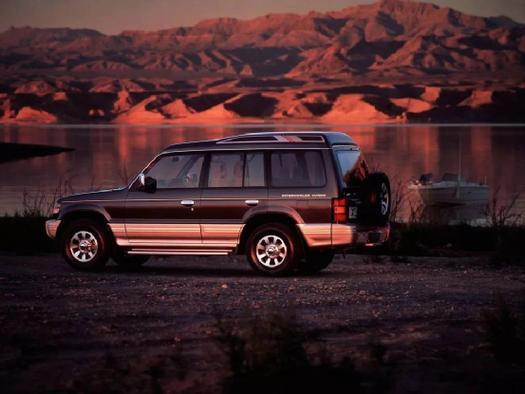汽车: (31, 130, 403, 282)
